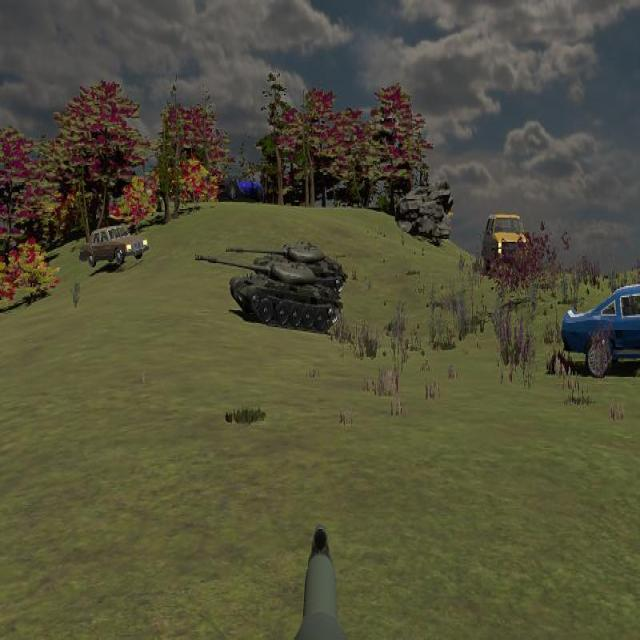Tank: (194, 255, 344, 335), (219, 239, 347, 294)
car: (561, 286, 640, 378), (79, 225, 149, 268), (482, 211, 528, 274)
